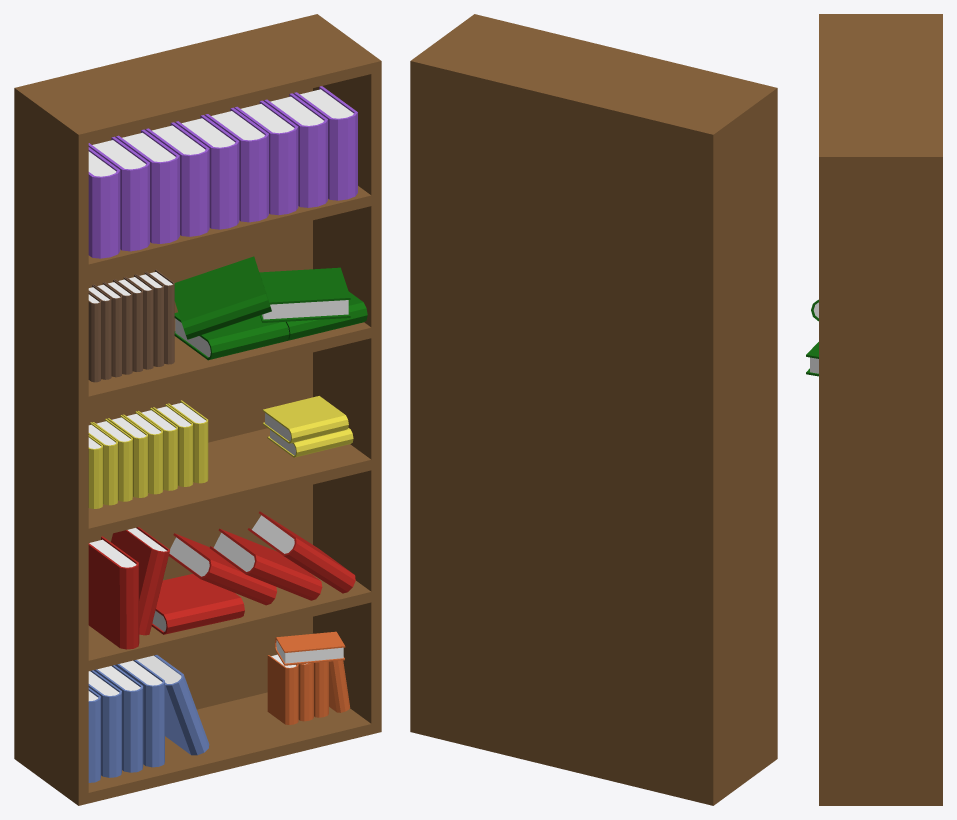
The model's file is Bookshelf.glb.
3 renders of one model, left to right at view 1: azimuth 30°, elevation 25°; view 2: azimuth 150°, elevation 25°; view 3: azimuth 270°, elevation 25°, orthographic. The views are drawn at different scales.
Visible parts, largest first — view 1: Cube, Circle.011, Circle.005, Circle.014, Circle.015, Circle.003, Circle.013, Circle.009; view 2: Cube; view 3: Cube, Circle.015.
Part boxes in pixels (box(x1,y1,x2,y2)): Cube: box(14, 14, 381, 805); Circle.011: box(88, 86, 357, 258); Circle.005: box(88, 511, 355, 649); Circle.014: box(88, 396, 353, 508); Circle.015: box(174, 256, 367, 360); Circle.003: box(88, 655, 209, 782); Circle.013: box(88, 269, 174, 382); Circle.009: box(267, 631, 350, 724); Cube: box(410, 14, 777, 805); Cube: box(819, 14, 942, 805); Circle.015: box(806, 299, 818, 376).
Bounding box in the file's own units: 600 × 1270 × 243.
